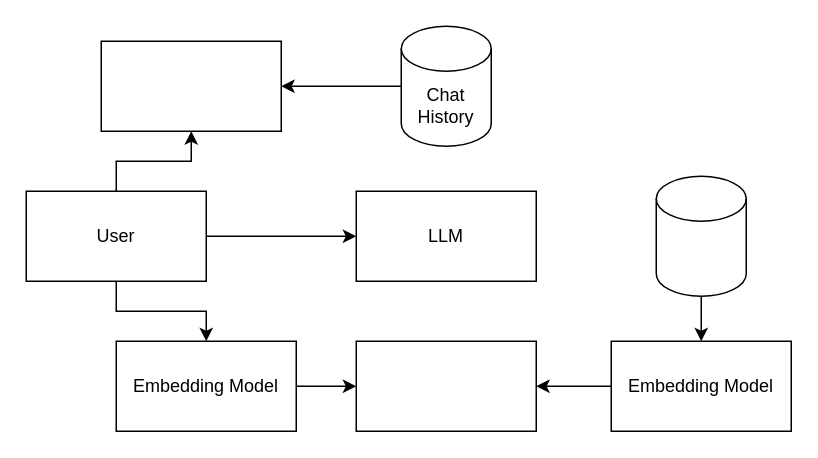
The diagram is 818 pixels wide and 458 high, and some of its shapes have lost their labels. The shapes that lost their labels are listed below. From the top down, each one's centre as x and y in pixels, then its label:
pixel 190 85: Memory Methods
pixel 700 235: Source Data
pixel 445 385: Vector Database
